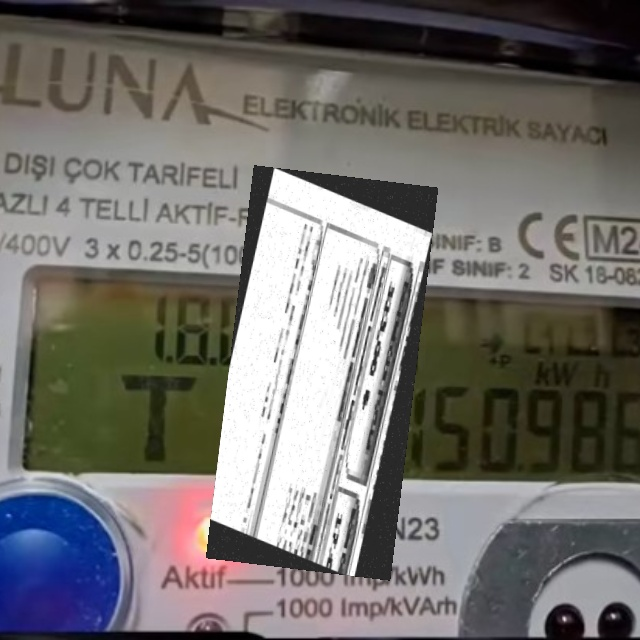electricity-bill: (206, 164, 438, 580)
